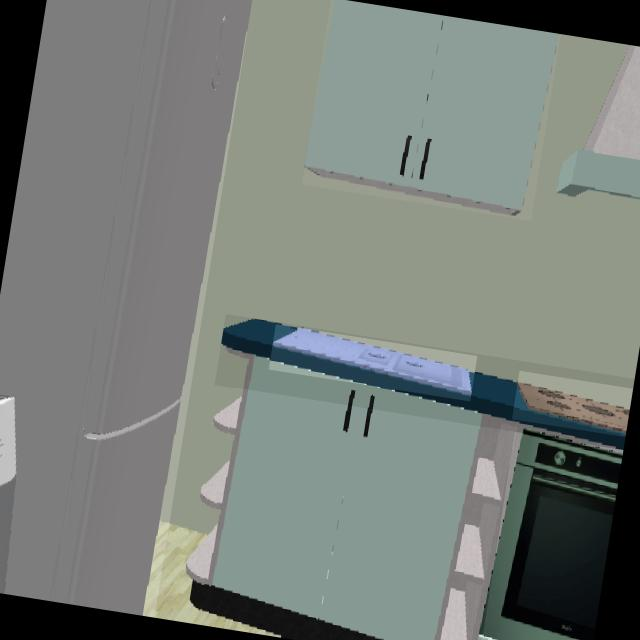cabinet: (205, 359, 524, 640), (304, 0, 561, 217)
countertop: (221, 320, 628, 449)
oven: (483, 436, 622, 640)
sink: (272, 329, 471, 399)
stove: (517, 384, 633, 437)
